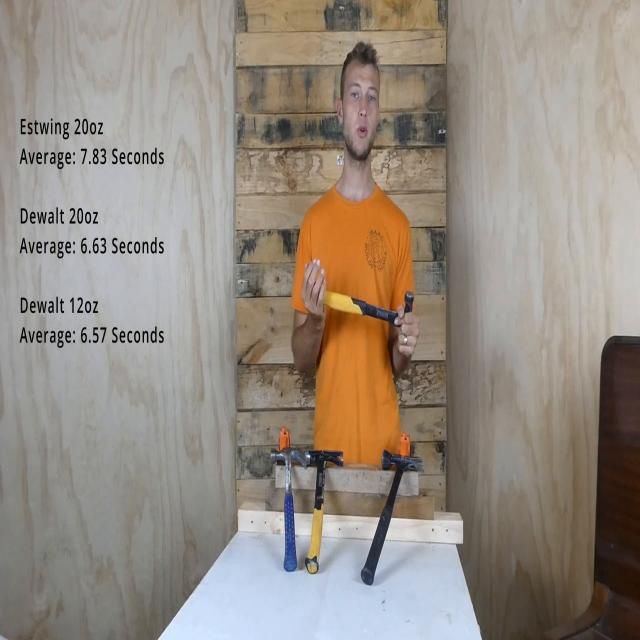hammer: (358, 450, 428, 588), (306, 280, 416, 344), (306, 447, 348, 578), (268, 442, 308, 576)
